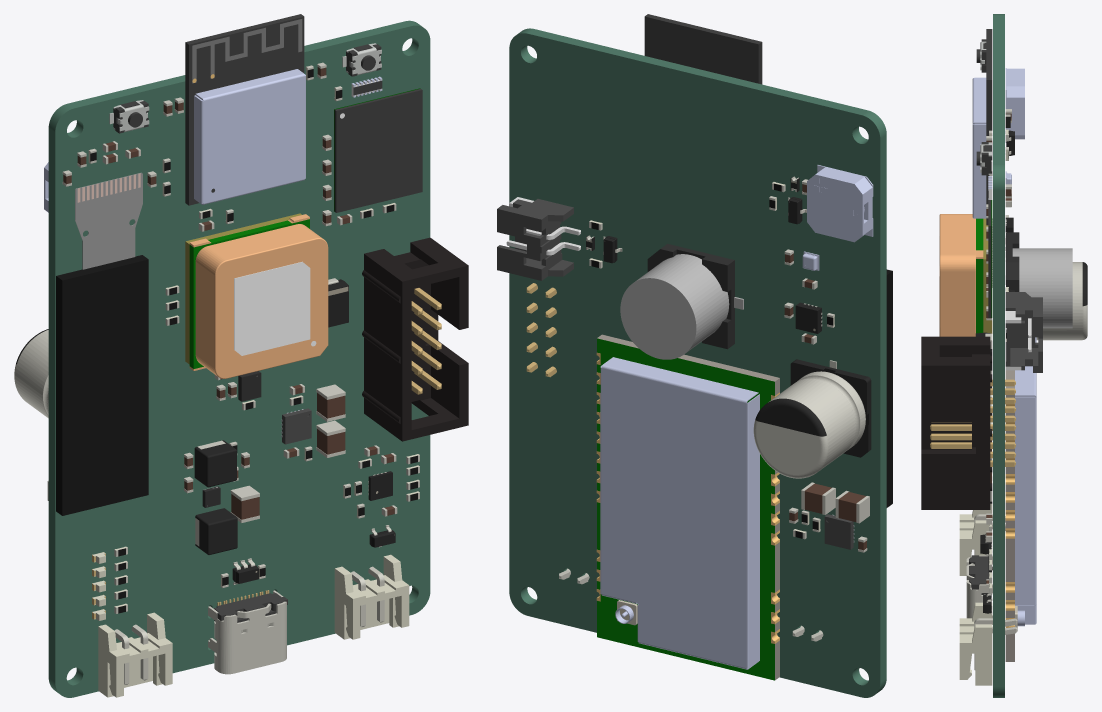
Rendered from Rasalhague.glb.
The picture shows the model from 3 angles, left to right: view 1: azimuth 30°, elevation 25°; view 2: azimuth 150°, elevation 25°; view 3: azimuth 270°, elevation 25°; orthographic projection. The views are drawn at different scales.
Visible parts, largest first — view 1: =>[0:1:1:36], U11_sub0, J17_sub0, U6_sub0, U7_sub1, U13_sub2, U6_sub1, U7_sub2, U11_sub1, J3_sub2, J5_sub0, J1_sub0 (+11 smaller); view 2: =>[0:1:1:36], U14_sub1, C4_sub0, U14_sub4, C2_sub0, U6_sub1, =>[0:1:1:30], LS1, C2_sub1, C4_sub1, U11_sub0, U14_sub2 (+4 smaller); view 3: J17_sub0, =>[0:1:1:36], U14_sub1, U7_sub1, C4_sub0, =>[0:1:1:30], J5_sub0, J17_sub1, U6_sub0, U14_sub2, C2_sub0, J1_sub0 (+11 smaller).
Part boxes in pixels (<box>): =>[0:1:1:36]: <box>48,20,430,697</box>; U11_sub0: <box>56,255,148,515</box>; J17_sub0: <box>362,237,468,441</box>; U6_sub0: <box>194,69,305,204</box>; U7_sub1: <box>189,214,328,378</box>; U13_sub2: <box>334,88,422,212</box>; U6_sub1: <box>185,14,304,205</box>; U7_sub2: <box>234,261,316,355</box>; U11_sub1: <box>75,172,142,269</box>; J3_sub2: <box>208,590,286,674</box>; J5_sub0: <box>334,554,409,639</box>; J1_sub0: <box>98,612,172,697</box>; =>[0:1:1:36]: <box>509,28,886,697</box>; U14_sub1: <box>600,357,759,669</box>; C4_sub0: <box>620,254,743,359</box>; U14_sub4: <box>597,338,774,680</box>; C2_sub0: <box>753,360,865,478</box>; U6_sub1: <box>644,14,762,84</box>; =>[0:1:1:30]: <box>497,199,573,280</box>; LS1: <box>807,165,873,242</box>; C2_sub1: <box>755,359,871,457</box>; C4_sub1: <box>647,243,734,349</box>; U11_sub0: <box>886,269,892,507</box>; U14_sub2: <box>597,334,779,680</box>; J17_sub0: <box>921,336,992,509</box>; =>[0:1:1:36]: <box>993,14,1004,697</box>; U14_sub1: <box>1015,337,1036,626</box>; U7_sub1: <box>939,214,983,336</box>; C4_sub0: <box>1005,248,1072,328</box>; =>[0:1:1:30]: <box>1005,292,1042,372</box>; J5_sub0: <box>959,602,992,685</box>; J17_sub1: <box>930,379,1015,466</box>; U6_sub0: <box>972,77,986,218</box>; U14_sub2: <box>1005,332,1014,661</box>; C2_sub0: <box>1005,258,1087,340</box>; J1_sub0: <box>959,503,992,575</box>.
Size of the model in its own units: 0.05 by 0.0801 by 0.0213.
